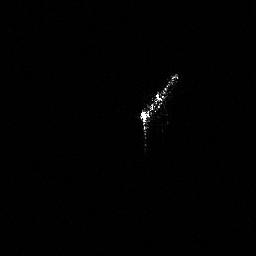ship: (137, 69, 181, 143)
